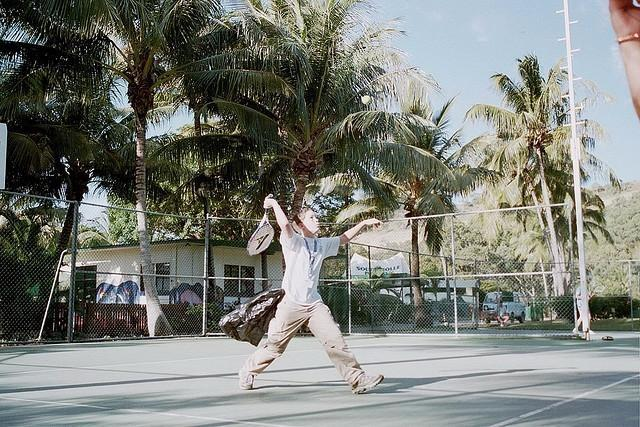bus: (484, 291, 526, 324)
car: (484, 291, 526, 324)
